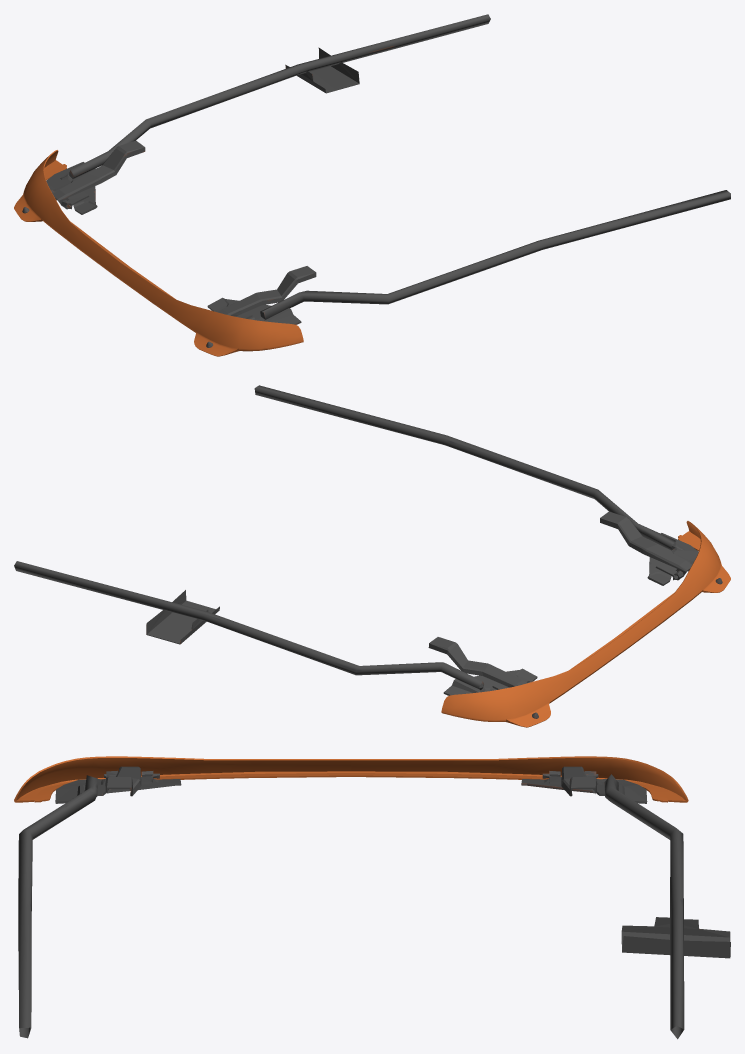
The model's file is Cabin_Deflector_common_Attachment.glb.
The picture shows the model from 3 angles, top to bottom: view 1: azimuth 30°, elevation 25°; view 2: azimuth 150°, elevation 25°; view 3: azimuth 270°, elevation 25°; orthographic projection. The views are drawn at different scales.
Parts seen in each view (by area): view 1: Cabin:Deflector_common_Attachment; view 2: Cabin:Deflector_common_Attachment; view 3: Cabin:Deflector_common_Attachment.
Boxes of the visible parts, x1,y1,x2,y2 form: Cabin:Deflector_common_Attachment: (14, 14, 730, 356); Cabin:Deflector_common_Attachment: (14, 385, 730, 727); Cabin:Deflector_common_Attachment: (14, 756, 730, 1039).
Bounding box in the file's own units: 1.44 × 0.1671 × 1.32.
1 material, 1 textured.
